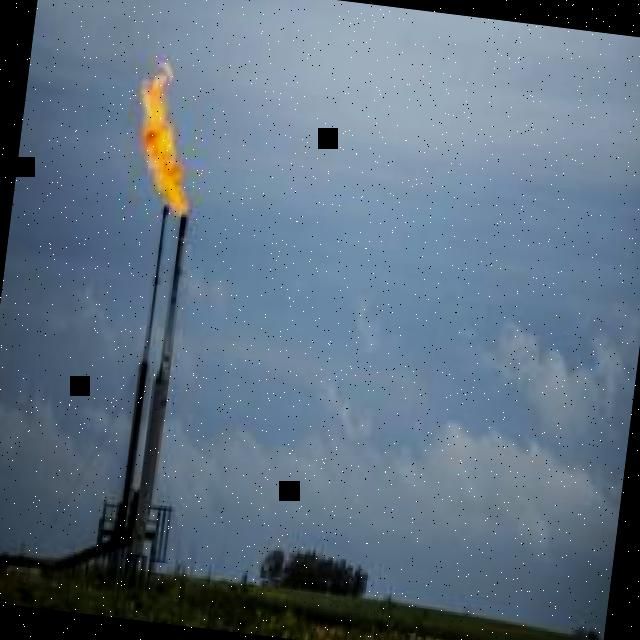fire: (140, 60, 188, 216)
